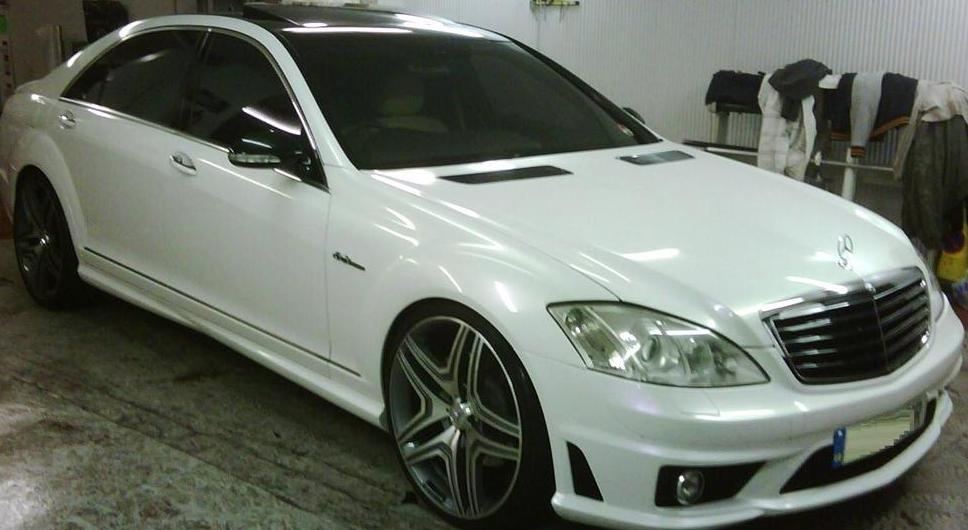front_view: (554, 239, 955, 502)
headlight: (549, 283, 775, 397)
side_glass: (73, 32, 316, 192)
